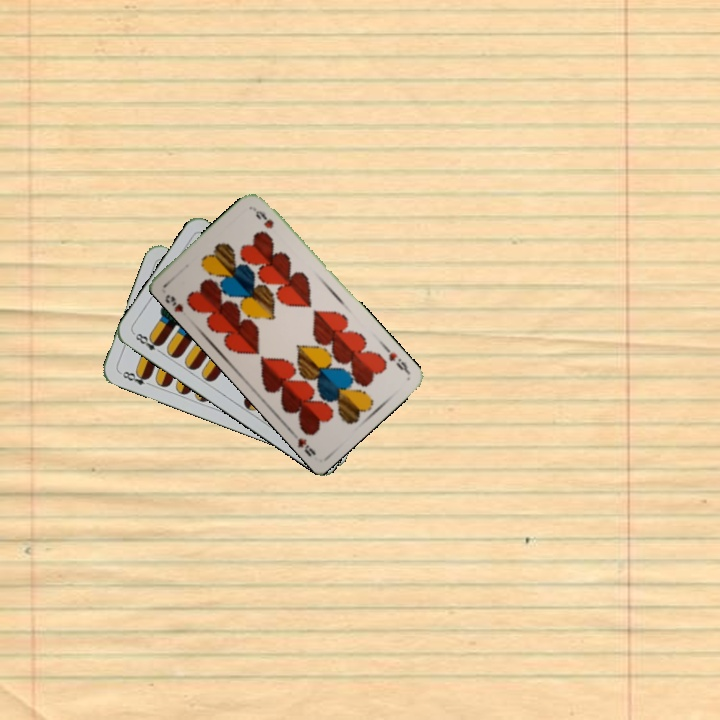E8: (130, 328, 165, 357), (116, 367, 155, 389)
H9: (384, 348, 411, 376), (161, 290, 186, 315)
